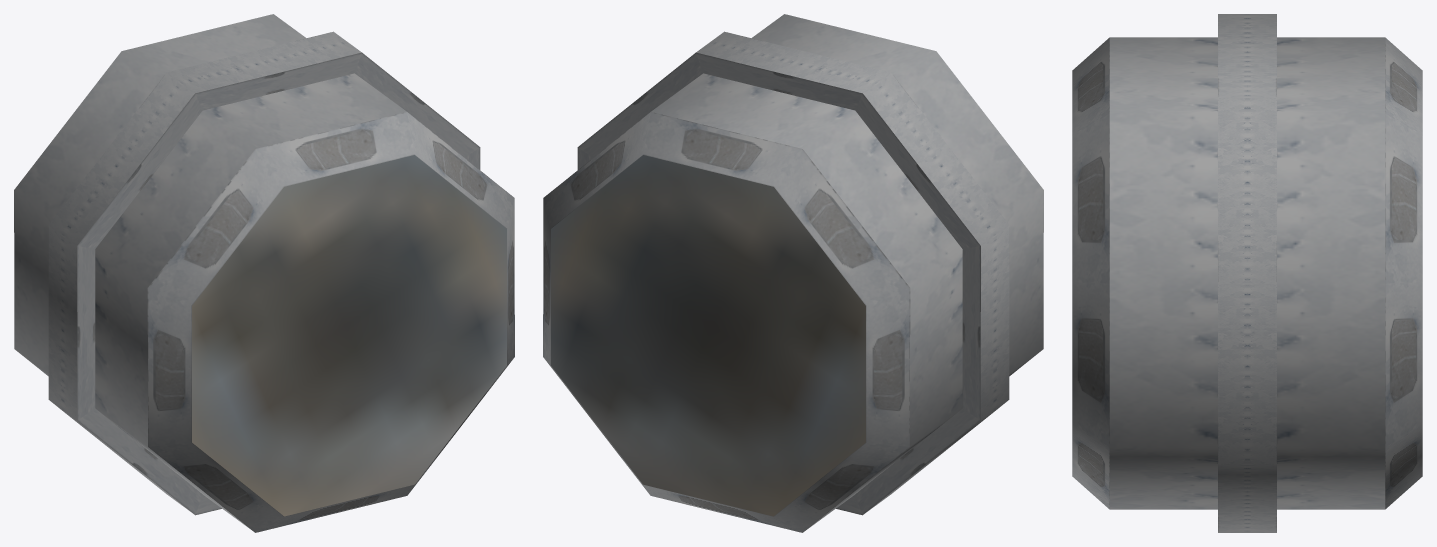
The model's file is SM_HoseSysT.fbx.
3 renders of one model, left to right at view 1: azimuth 30°, elevation 25°; view 2: azimuth 150°, elevation 25°; view 3: azimuth 270°, elevation 25°, orthographic. The views are drawn at different scales.
Parts seen in each view (by area): view 1: SM_HoseSysT_LOD0; view 2: SM_HoseSysT_LOD0; view 3: SM_HoseSysT_LOD0.
Part boxes in pixels (left/top/right/bottom): SM_HoseSysT_LOD0: left=14, top=14, right=514, bottom=532; SM_HoseSysT_LOD0: left=543, top=14, right=1043, bottom=532; SM_HoseSysT_LOD0: left=1072, top=14, right=1422, bottom=532.
Size of the model in its own units: 13.69 by 10 by 13.69.
1 material, 1 textured.
